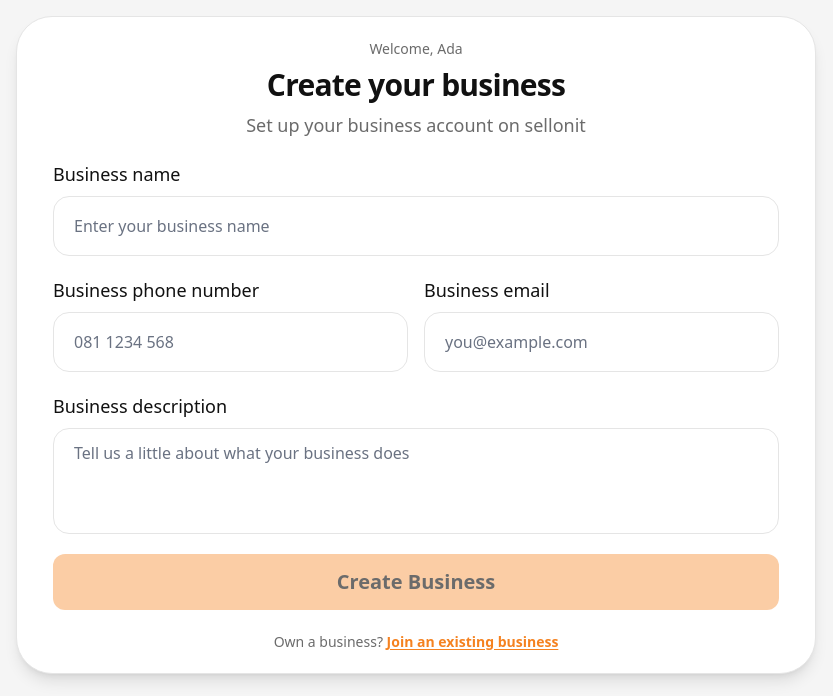
Test: Create Business screen › shows a non-blocking coming-soon notice for non-supplier roles and does not advance
Type "Okechukwu Fashion" into the field labelled "Business name" at point(416, 226), box [74,197,758,255]
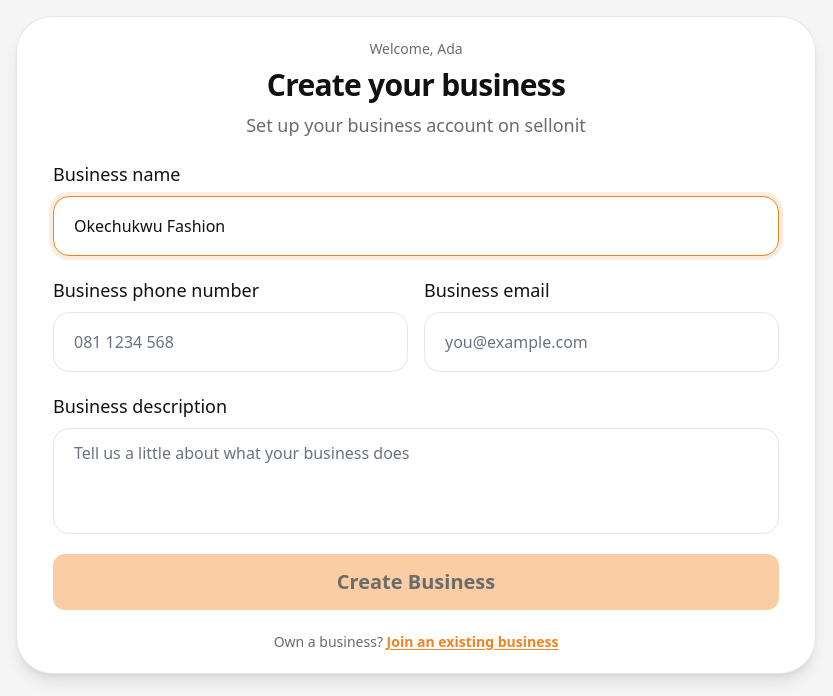
Type "08031234567" into the field labelled "Business phone number" at point(230, 342), box [74,313,387,371]
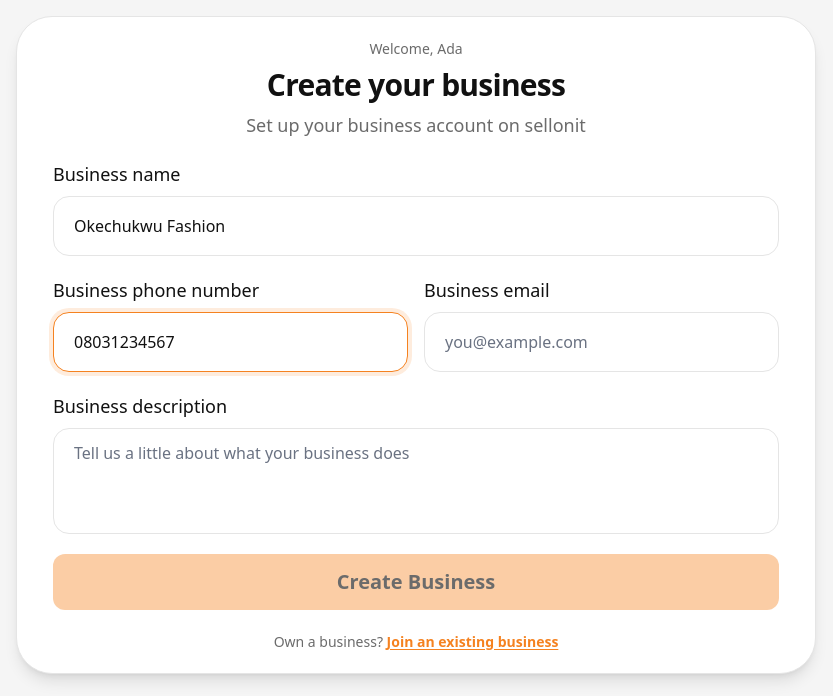
Type "hello@example.com" into the field labelled "Business email" at point(602, 342), box [445,313,758,371]
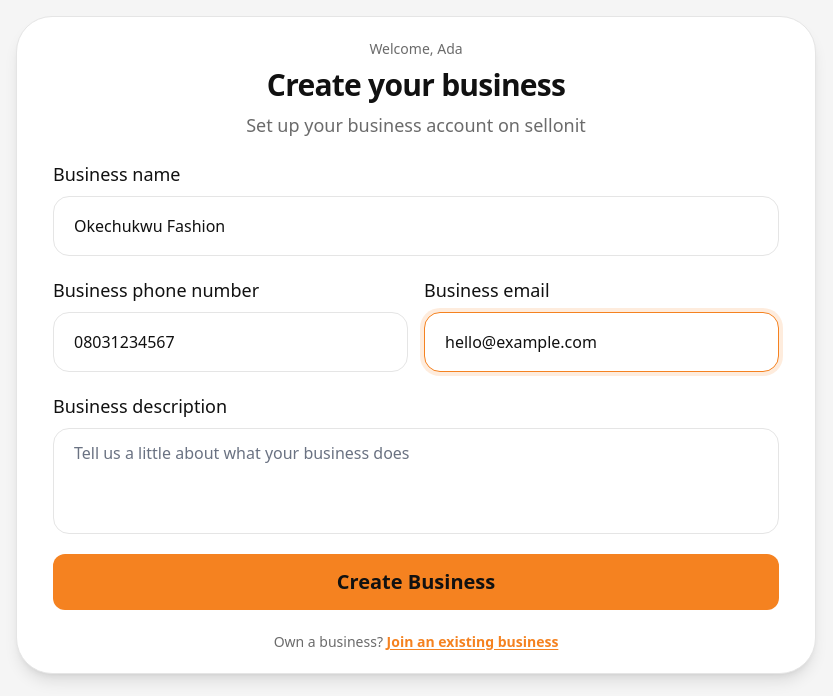
Click the button "Create Business" at point(416, 582), box [53,554,779,610]
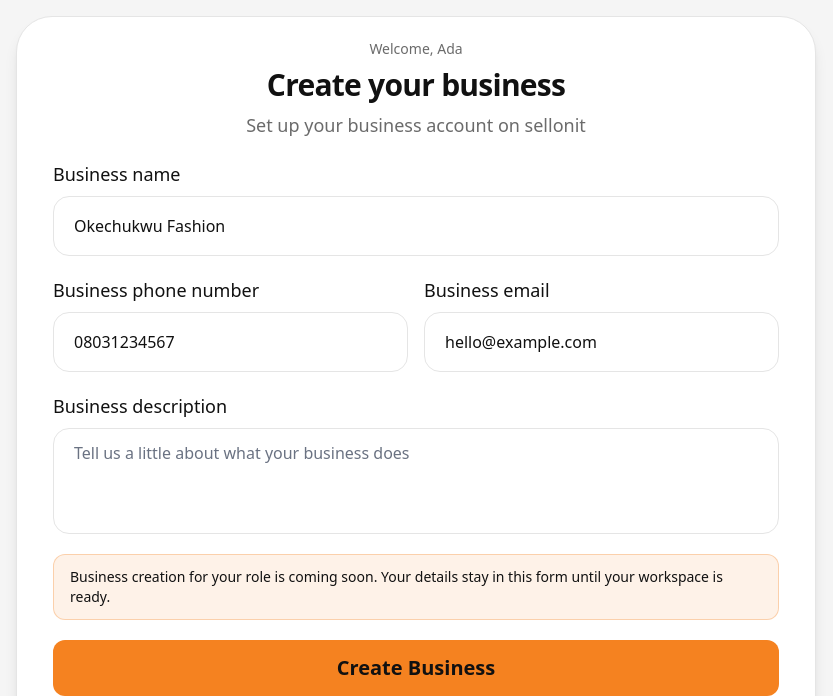
Expected: the message is shown, [53,554,779,620]
Expected: the text "coming soon" is shown, [70,567,723,606]
